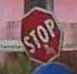stop: (18, 3, 61, 66)
